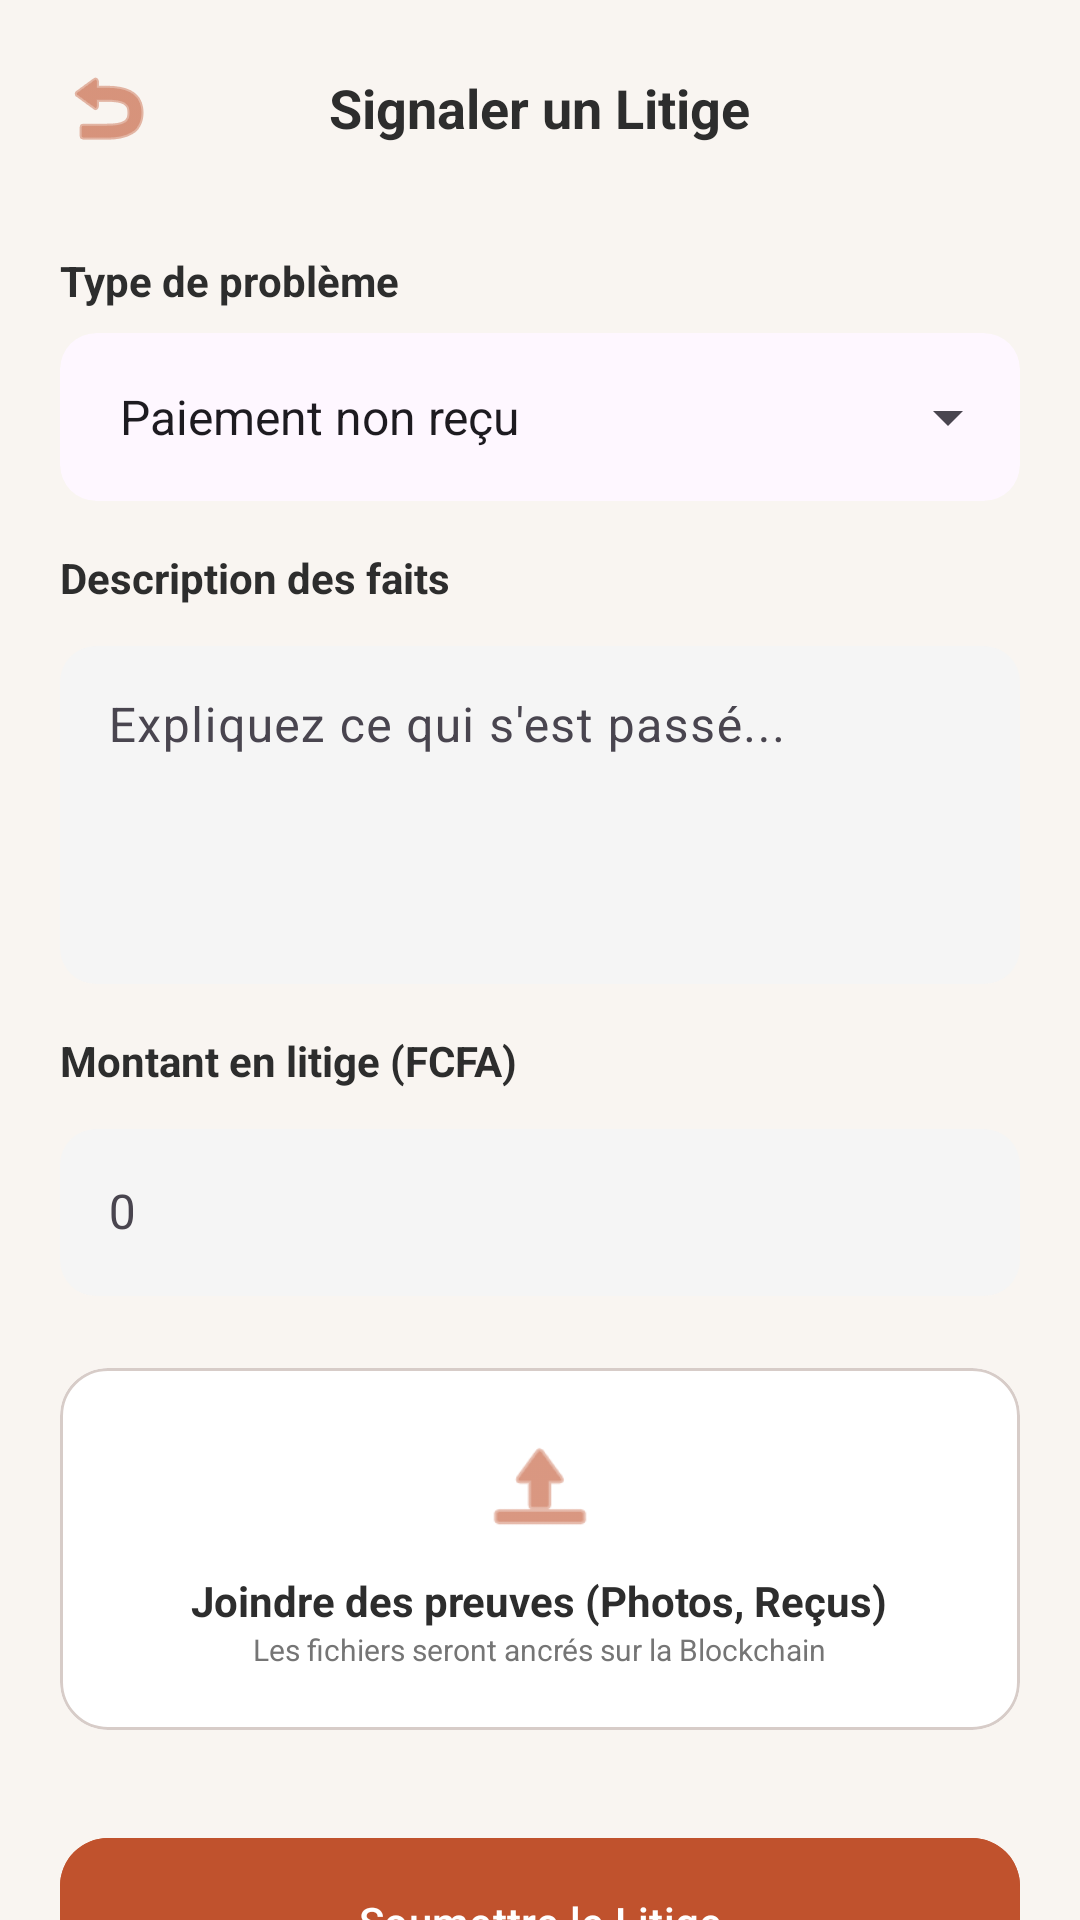

Where to tap for icons on this 1080×1920 app screen, as (x=x, y=y):
revert: (x=109, y=108)
upload: (x=540, y=1486)
